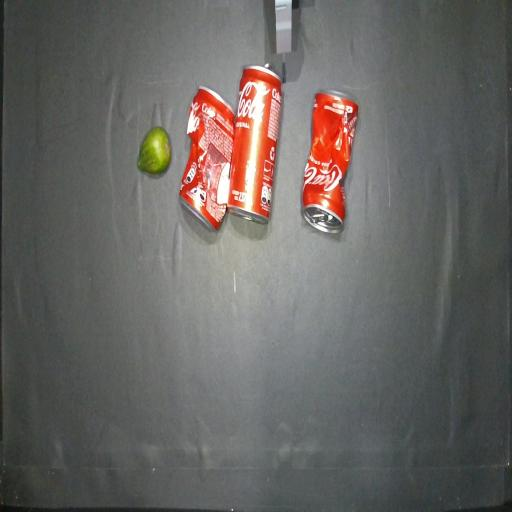higo: (137, 127, 171, 174)
lata: (227, 65, 282, 224)
lata_defectuoso: (301, 90, 358, 233), (180, 88, 234, 230)
